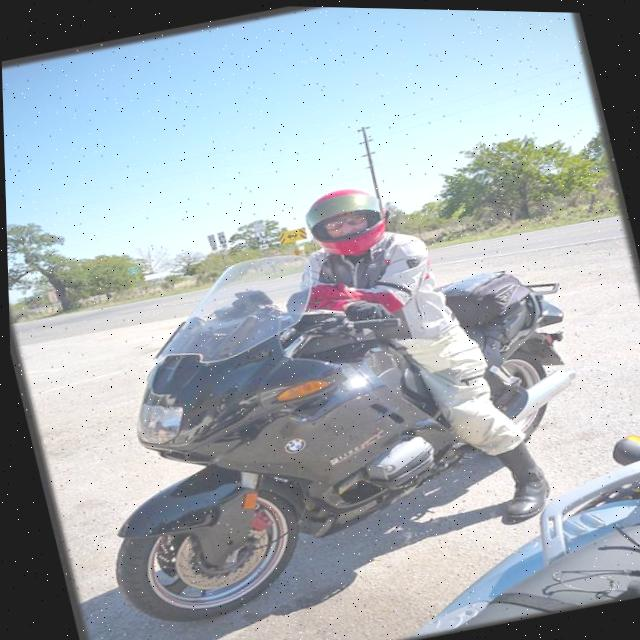motorcycle: (38, 190, 624, 640)
